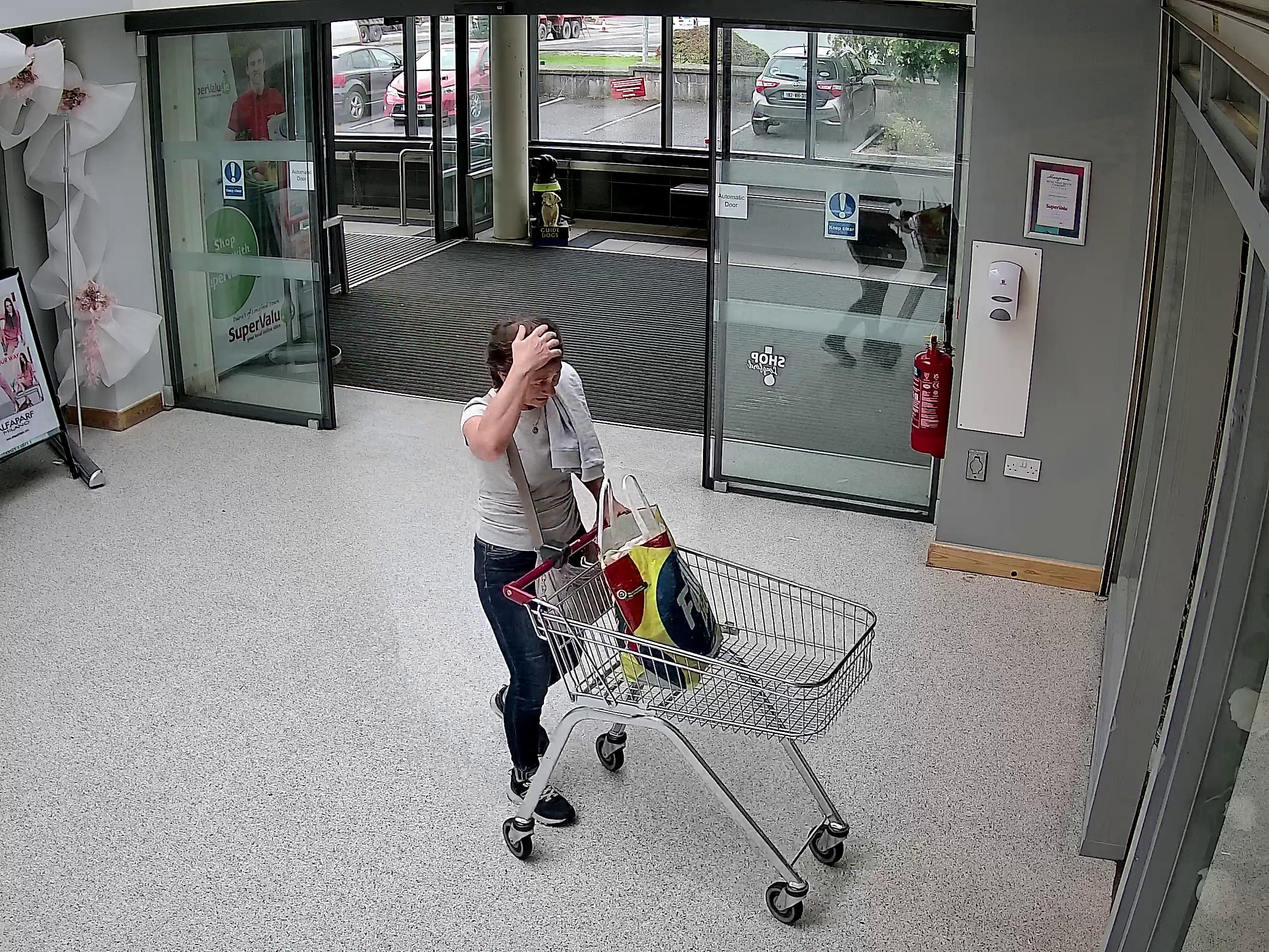empty-trolly: (500, 514, 877, 923)
filled-shopping-bags: (597, 474, 724, 687)
person: (462, 312, 631, 825)
person-with-basket-trolly-and-shopping-bag: (462, 311, 879, 922)
